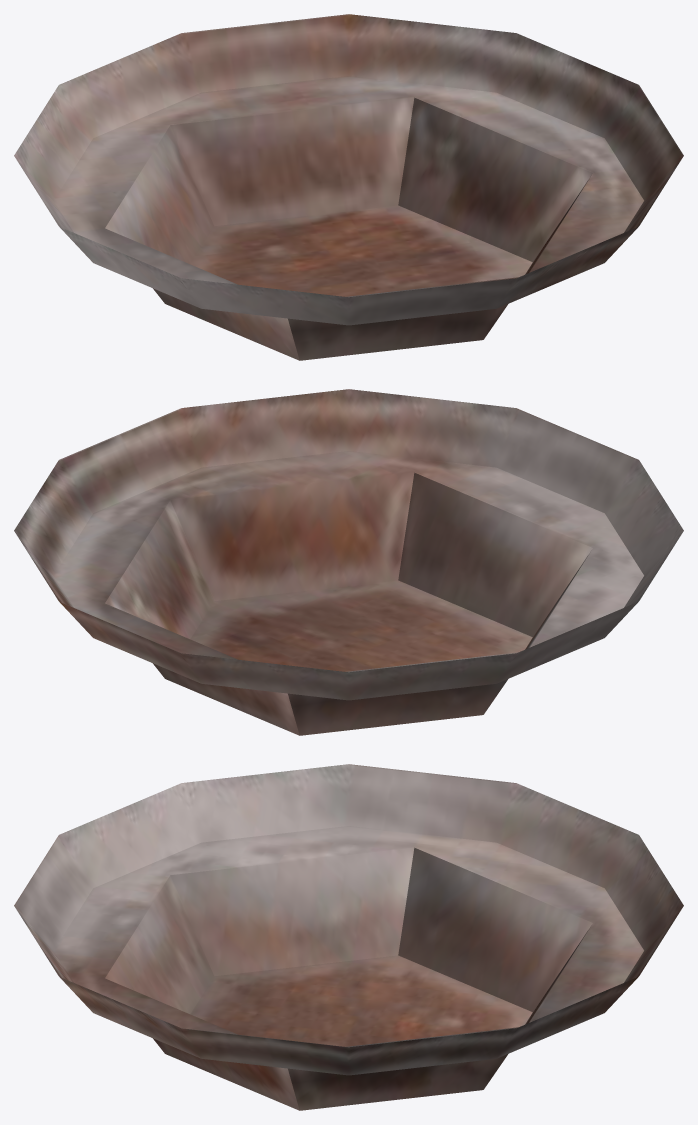
File: stylized_pipe_16.glb
3 renders of one model, top to bottom at view 1: azimuth 30°, elevation 25°; view 2: azimuth 150°, elevation 25°; view 3: azimuth 270°, elevation 25°, orthographic.
Visible parts, largest first — view 1: stylized_pipe_16; view 2: stylized_pipe_16; view 3: stylized_pipe_16.
Boxes of the visible parts, x1,y1,x2,y2 form: stylized_pipe_16: (14, 14, 683, 360); stylized_pipe_16: (14, 389, 683, 735); stylized_pipe_16: (14, 764, 683, 1110).
Size of what is drawn, in the model's own units: 0.0832 by 0.0175 by 0.0832.
1 material, 1 textured.
